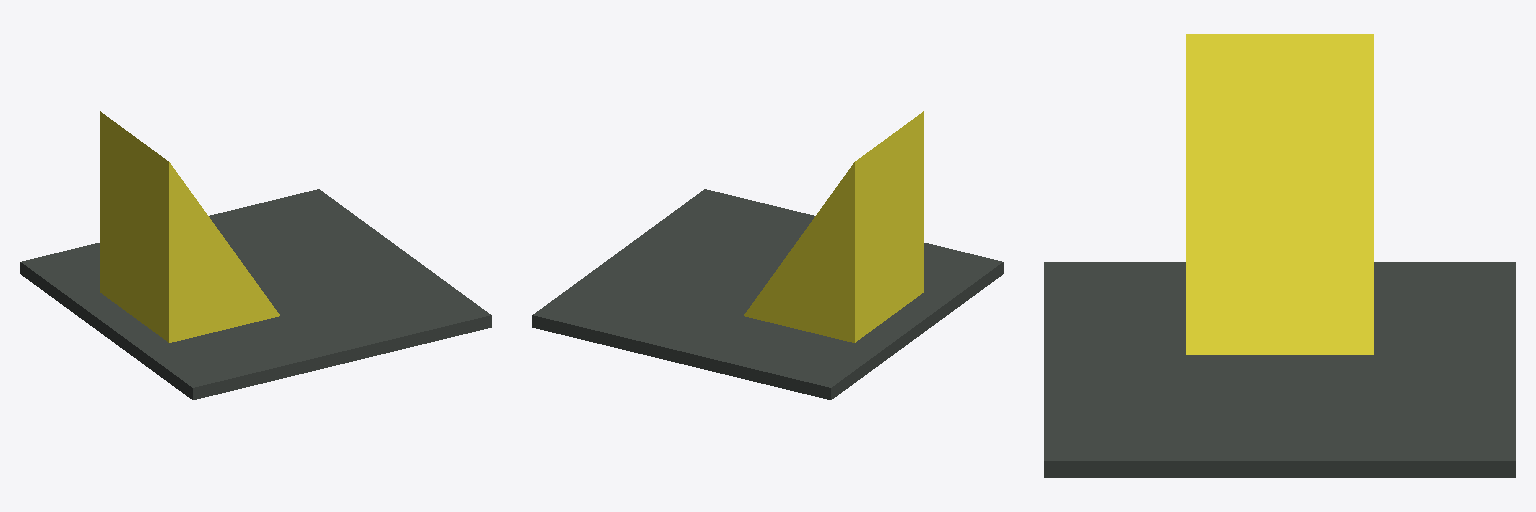
URDF robot description (ground_skeleton):
<?xml version="1.0"?>
<robot name="ground_skeleton">
    <material name="blue">
        <color rgba="0 0 0.8 1"/>
    </material>
    <material name="white">
        <color rgba="1 1 1 1"/>
    </material>
    <material name="greygreen">
        <color rgba="0.324 0.346 0.330 1"/>
    </material>
    <link name="world" />
    <link name="world_frame">
        <inertial>
            <mass value="0.000000001" />
            <origin xyz="0 0 0" rpy="0 0 0" />
            <inertia ixx="0.000000001" ixy="0.000000001" ixz="0.000000001" iyy="1.0" iyz="0" izz="1.0" />
        </inertial>
    </link>
    <link name="ground">
         <collision>
            <origin xyz= "0 0 0" rpy="0. 0 0" />
            <geometry>
                <box size="2.5 2.5 0.1" />
            </geometry>
        </collision>
         <visual name="visual">
            <origin xyz = "0 0 0" rpy="0. 0 0" />
            <geometry>
                <box size="2.5 2.5 0.1" />
            </geometry>
            <material name="greygreen"/>
        </visual>
        <inertial>
            <mass value="1.0" />
            <origin xyz="0 0 0" rpy="0 0 0" />
            <inertia ixx="1.0" ixy="0" ixz="0" iyy="1.0" iyz="0" izz="1.0" />
        </inertial>
    </link>
    <link name="ground_link">
         <collision>
            <origin xyz= "-0.0 -0.0 0.0" rpy="0. 0. 3.141592" />
            <geometry>
        	    <mesh filename="meshes/slope.obj"/>
      	    </geometry>
        </collision>
         <visual name="visual">
            <origin xyz = "-0.0 -0.0 0.0" rpy="0. 0.  3.141592" />
            <geometry>
        	    <mesh filename="meshes/slope.obj"/>
            </geometry>
        </visual>
        <inertial>
            <mass value="1.0" />
            <origin xyz="0 0 0" rpy="0 0 0" />
            <inertia ixx="1.0" ixy="0" ixz="0" iyy="1.0" iyz="0" izz="1.0" />
        </inertial>
    </link>
    <joint name="ground_joint" type="fixed">
        <origin xyz="-0.05 -0.5 0.0" rpy="0. 1. 0." />
        <parent link="world" />
        <child link="ground_link" />
    </joint>
    <joint name="frame_joint" type="fixed">
        <origin xyz="0 0 0" rpy="0 0 0" />
        <parent link="world" />
        <child link="world_frame" />
    </joint>
    <joint name="ground_flat_joint" type="fixed">
        <origin xyz="0.0 0.0 -0.0" rpy="0 0.0 0.0" />
        <parent link="world" />
        <child link="ground" />
    </joint>
</robot>

--- What the picture shows (computed from the rendered views, not written in the file) ---
3 views of the same robot in one strip: view 1: azimuth 30°, elevation 25°; view 2: azimuth 150°, elevation 25°; view 3: azimuth 270°, elevation 25° (orthographic).
Model ground_skeleton with 4 links and 3 joints (3 fixed), rooted at world, posed every joint at zero.
Visible links, largest first — view 1: ground, ground_link; view 2: ground, ground_link; view 3: ground, ground_link.
Boxes of the visible links, x1,y1,x2,y2 form: ground: (20, 189, 491, 399); ground_link: (100, 111, 279, 342); ground: (532, 189, 1003, 399); ground_link: (744, 111, 923, 342); ground: (1044, 262, 1515, 477); ground_link: (1186, 34, 1373, 354).
Size in the robot's own frame: 2.5 by 2.5 by 1.55 metres.
Meshes: 1 distinct files referenced, 1 mesh visuals loaded (1 OBJ).